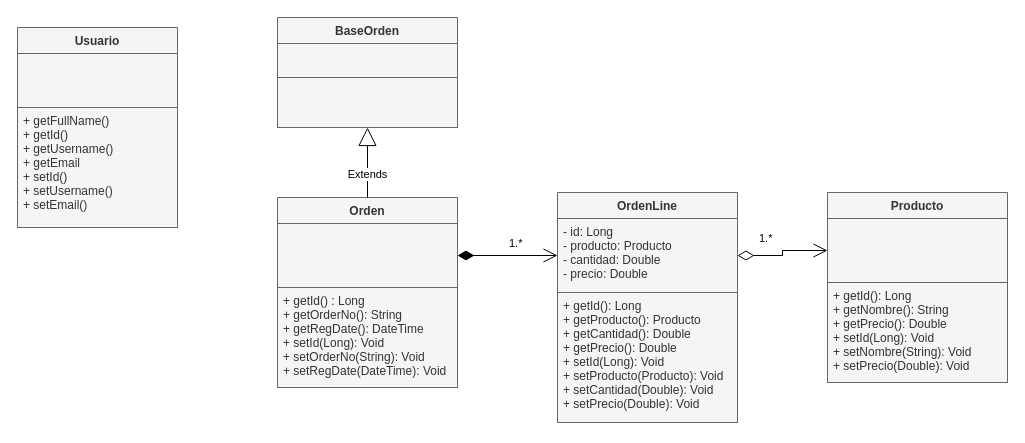
This 1025x443 diagram has some shape labels left out. Here are the shapes that lost their labels. From the top down, the centre of each, then its label:
At (97,80): "- id: Long - username: String - email: String".
At (367,60): "- id: Long".
At (367,102): "+ getId() : Long + setId(Long): Void".
At (367,255): "- id: Long - orderNo: String - regDate: DateTime".
At (917,250): "- id: Long - nombre: String - precio: Double".
